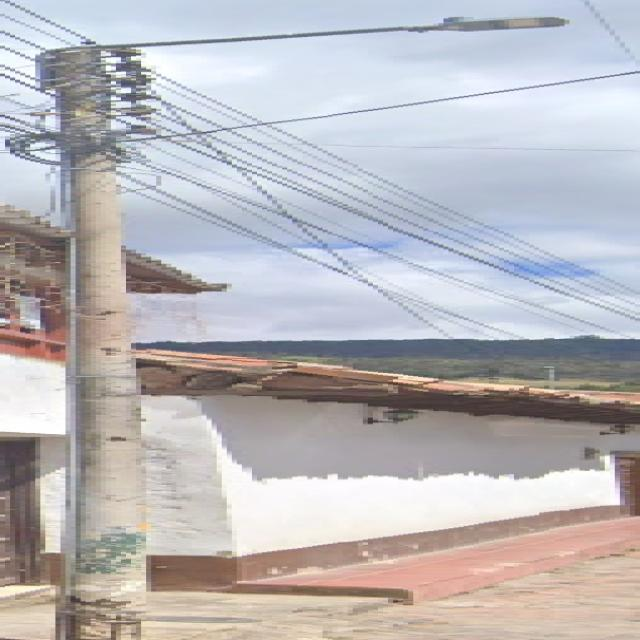Poste: (45, 17, 564, 639)
